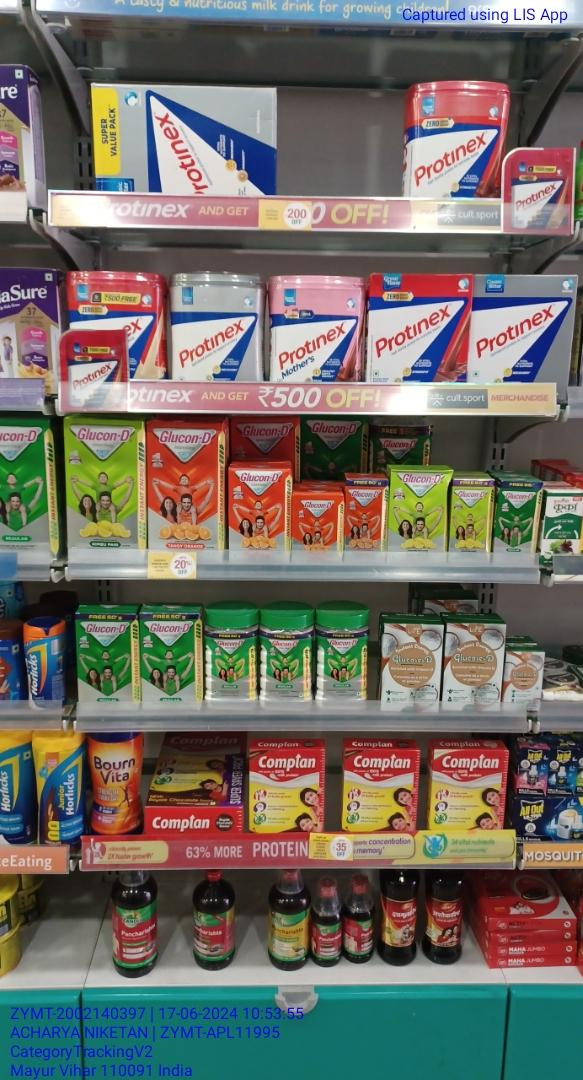BOURN_VITA_500_G_POUCH: (88, 732, 140, 836)
COMPLAN_CHOCOLATE_200_GMS_PACK: (344, 750, 417, 834), (251, 752, 323, 835)
COMPLAN_KESAR_BADAM_200_GMS_PACK: (432, 748, 505, 829)
HORLICK_CLASSIC_MALT_200_G_JAR: (25, 623, 53, 710)
PROTINEX_CHOCOLATE_400_G_JAR: (406, 80, 501, 204)
PROTINEX_ORIGINAL_400_G_JAR: (172, 273, 260, 385)
PROTINEX_VANILLA_400_G_JAR: (69, 271, 162, 381)
